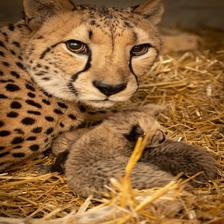Cheetah: (0, 0, 165, 178), (54, 118, 224, 190), (63, 110, 184, 205)
